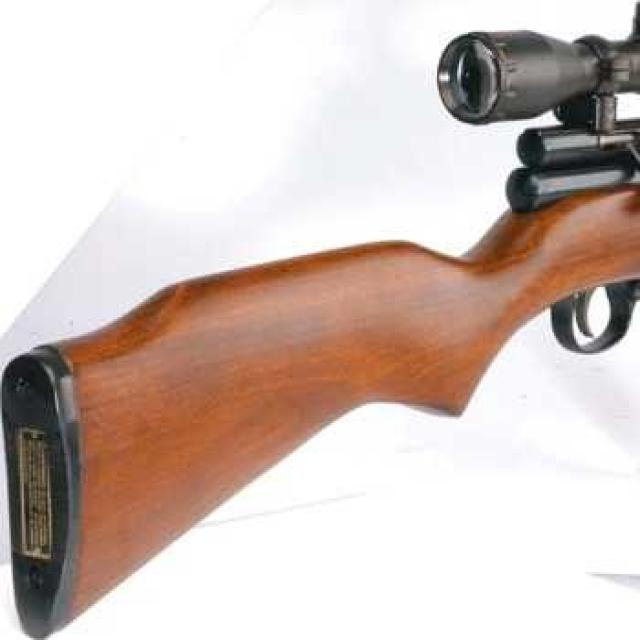heavyweapon: (1, 5, 640, 640)
